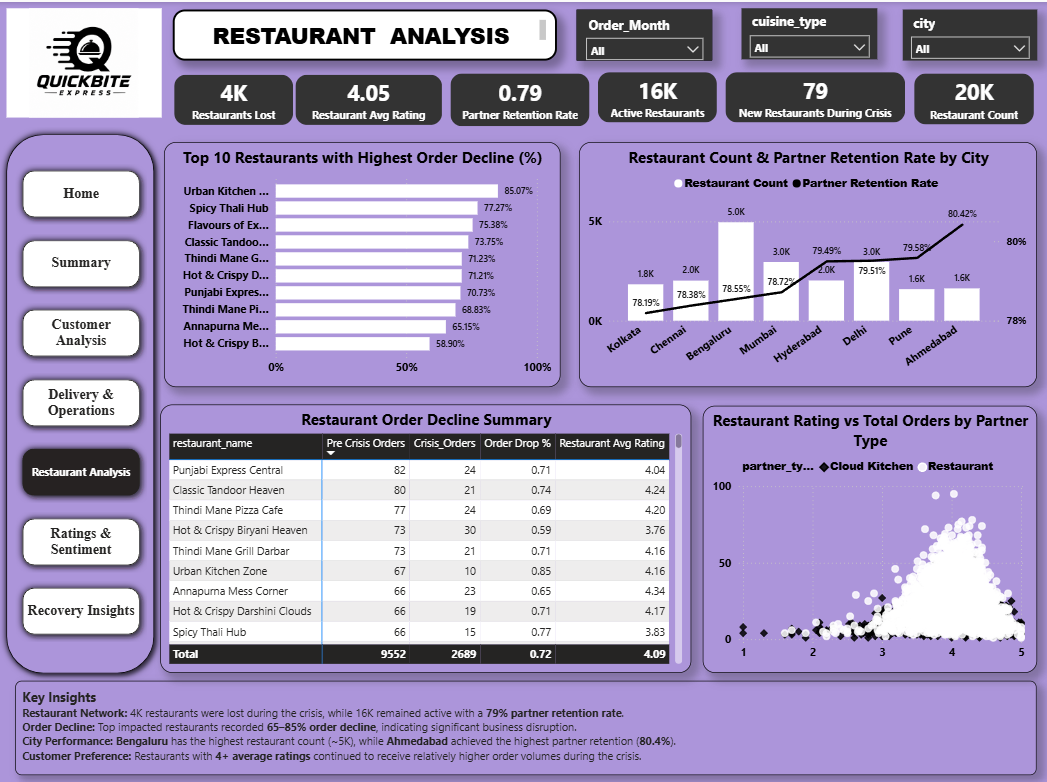

The page's visual inventory and layout, read from the dashboard file:
{"tool":"powerbi","page":{"name":"Restaurant Analysis","canvas":[1300,1000],"ordinal":4},"visuals":[{"type":"cardVisual","fields":{"Data":["restaurant_data.Restaurants Lost"]},"box":[211.8,85,157.7,72.7],"z":0},{"type":"cardVisual","fields":{"Data":["restaurant_data.Restaurant Avg Rating"]},"box":[361.9,85.5,191,72.1],"z":1000},{"type":"cardVisual","fields":{"Data":["restaurant_data.Partner Retention Rate"]},"box":[553,83.8,182.6,75.4],"z":2000},{"type":"cardVisual","fields":{"Data":["restaurant_data.New Restaurants During Crisis"]},"box":[893.1,82.1,232.9,72.1],"z":3000},{"type":"textbox","box":[215,10,475,63.3],"z":4000},{"type":"shape","box":[0,154.6,201,684.9],"z":5000},{"type":"pageNavigator","box":[20,200,163.3,596.7],"z":6000},{"type":"cardVisual","fields":{"Data":["restaurant_data.Active Restaurants (Both Periods)"]},"box":[735.6,82.1,157.5,72.1],"z":7000},{"type":"cardVisual","fields":{"Data":["restaurant_data.Restaurant Count"]},"box":[1126.7,83.3,158.3,73.3],"z":8000},{"type":"slicer","fields":{"Values":["orders_data.Order_Month"]},"box":[715,10,168.3,63.3],"z":9000},{"type":"slicer","fields":{"Values":["restaurant_data.city"]},"box":[1118.3,10,166.7,63.3],"z":10000},{"type":"slicer","fields":{"Values":["restaurant_data.cuisine_type"]},"box":[918.3,8.3,168.3,63.3],"z":11000},{"type":"image","box":[10,8.3,191.7,135],"z":12000},{"type":"textbox","box":[20,840,1263.3,116.7],"z":13000},{"type":"clusteredBarChart","title":"Top 10 Restaurants with Highest Order Decline (%)","fields":{"Category":["restaurant_data.restaurant_name"],"Y":["orders_data.Order Drop %"]},"box":[203.3,173.3,490,303.3],"z":14000},{"type":"lineClusteredColumnComboChart","title":"Restaurant Count & Partner Retention Rate by City","fields":{"Category":["restaurant_data.city"],"Y":["restaurant_data.Restaurant Count"],"Y2":["restaurant_data.Partner Retention Rate"]},"box":[716.7,173.3,566.7,303.3],"z":15000},{"type":"pivotTable","title":"Restaurant Order Decline Summary","fields":{"Rows":["restaurant_data.restaurant_name"],"Values":["orders_data.Pre Crisis Orders","orders_data.Crisis_Orders","orders_data.Order Drop %","restaurant_data.Restaurant Avg Rating"]},"box":[200,498.3,656.7,331.7],"z":16000},{"type":"scatterChart","title":"Restaurant Rating vs Total Orders by Partner Type","fields":{"X":["ratings_data.Avg Rating"],"Y":["orders_data.Total Orders"],"Series":["restaurant_data.partner_type"],"Category":["restaurant_data.restaurant_name"]},"box":[870,500,413.3,330],"z":17000}]}

Visuals, with their boxes in screenshot pixels (x1, y1, x2, y2), scaled from the page's 1300x1000 canvas onto the 1047x782 screenshot:
cardVisual - restaurant_data.Restaurants Lost: [left=171, top=66, right=298, bottom=123]
cardVisual - restaurant_data.Restaurant Avg Rating: [left=291, top=67, right=445, bottom=123]
cardVisual - restaurant_data.Partner Retention Rate: [left=445, top=66, right=592, bottom=124]
cardVisual - restaurant_data.New Restaurants During Crisis: [left=719, top=64, right=907, bottom=121]
textbox: [left=173, top=8, right=556, bottom=57]
shape: [left=0, top=121, right=162, bottom=656]
pageNavigator: [left=16, top=156, right=148, bottom=623]
cardVisual - restaurant_data.Active Restaurants (Both Periods): [left=592, top=64, right=719, bottom=121]
cardVisual - restaurant_data.Restaurant Count: [left=907, top=65, right=1035, bottom=122]
slicer - orders_data.Order_Month: [left=576, top=8, right=711, bottom=57]
slicer - restaurant_data.city: [left=901, top=8, right=1035, bottom=57]
slicer - restaurant_data.cuisine_type: [left=740, top=6, right=875, bottom=56]
image: [left=8, top=6, right=162, bottom=112]
textbox: [left=16, top=657, right=1034, bottom=748]
"Top 10 Restaurants with Highest Order Decline (%)" clusteredBarChart: [left=164, top=136, right=558, bottom=373]
"Restaurant Count & Partner Retention Rate by City" lineClusteredColumnComboChart: [left=577, top=136, right=1034, bottom=373]
"Restaurant Order Decline Summary" pivotTable: [left=161, top=390, right=690, bottom=649]
"Restaurant Rating vs Total Orders by Partner Type" scatterChart: [left=701, top=391, right=1034, bottom=649]
